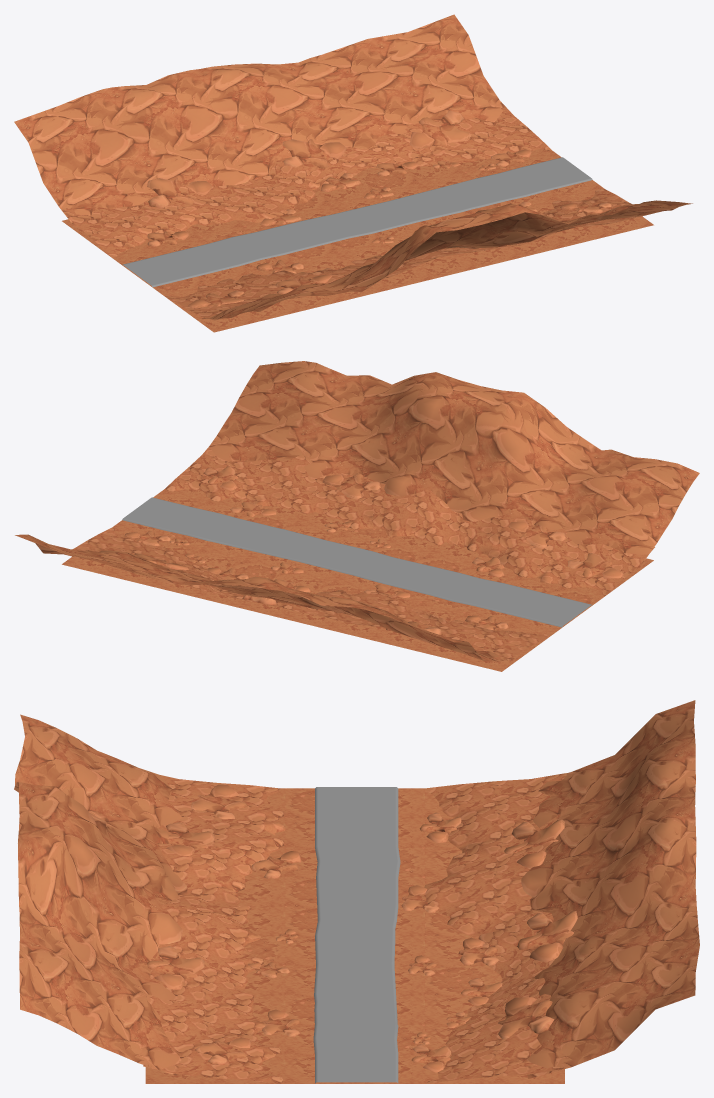
The model's file is Desert_Track01_Ground.FBX.
3 renders of one model, top to bottom at view 1: azimuth 30°, elevation 25°; view 2: azimuth 150°, elevation 25°; view 3: azimuth 270°, elevation 25°, orthographic. The views are drawn at different scales.
Parts seen in each view (by area): view 1: sand, Desert_Track01_Road; view 2: sand, Desert_Track01_Road; view 3: sand, Desert_Track01_Road.
Boxes of the visible parts, <box> form: sand: <box>14,14,692,332</box>; Desert_Track01_Road: <box>122,157,592,287</box>; sand: <box>15,361,699,671</box>; Desert_Track01_Road: <box>122,497,592,627</box>; sand: <box>14,700,699,1083</box>; Desert_Track01_Road: <box>313,787,400,1083</box>.
Bounding box in the file's own units: 50 × 10.17 × 49.07.
Materials: 2 (1 with a texture image).
